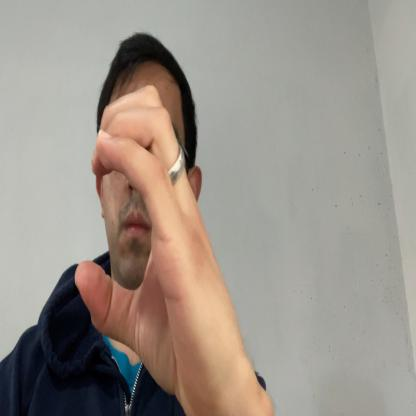C: (75, 83, 232, 404)
